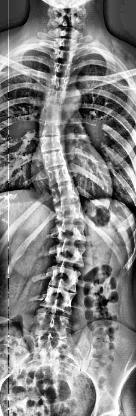Vertebrae: (47, 263, 85, 295), (39, 284, 77, 316), (32, 312, 70, 340), (50, 241, 86, 269), (49, 181, 81, 207), (54, 221, 88, 245), (52, 200, 84, 223), (44, 164, 74, 188), (40, 150, 70, 172), (39, 103, 69, 123), (38, 135, 68, 155), (37, 119, 69, 137), (47, 72, 73, 90), (44, 88, 70, 106), (50, 47, 76, 62), (50, 59, 74, 75)
